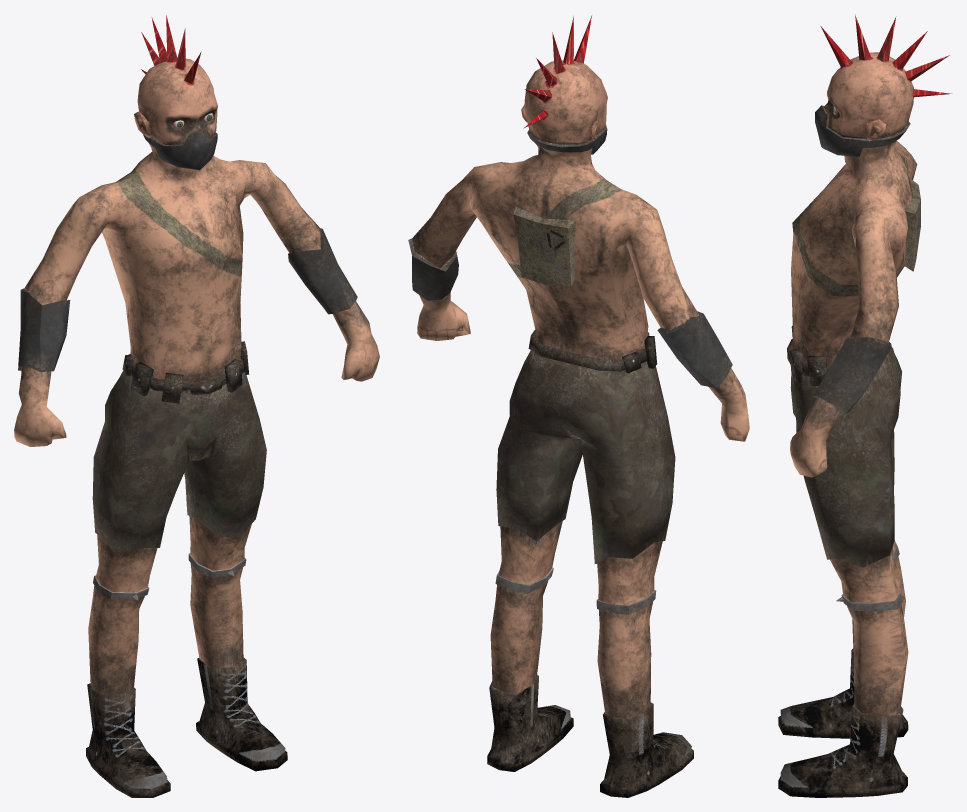
File: Anim_idle_npc2.0048.obj
The picture shows the model from 3 angles, left to right: view 1: azimuth 30°, elevation 25°; view 2: azimuth 150°, elevation 25°; view 3: azimuth 270°, elevation 25°; orthographic projection. The views are drawn at different scales.
Visible parts, largest first — view 1: polySurface1; view 2: polySurface1; view 3: polySurface1.
Part boxes in pixels (bbox=[...]): polySurface1: bbox=[14, 15, 379, 797]; polySurface1: bbox=[408, 15, 749, 797]; polySurface1: bbox=[778, 14, 952, 797].
Size of the model in its own units: 5.02 by 10.18 by 2.15.
2 materials, 2 textured.
